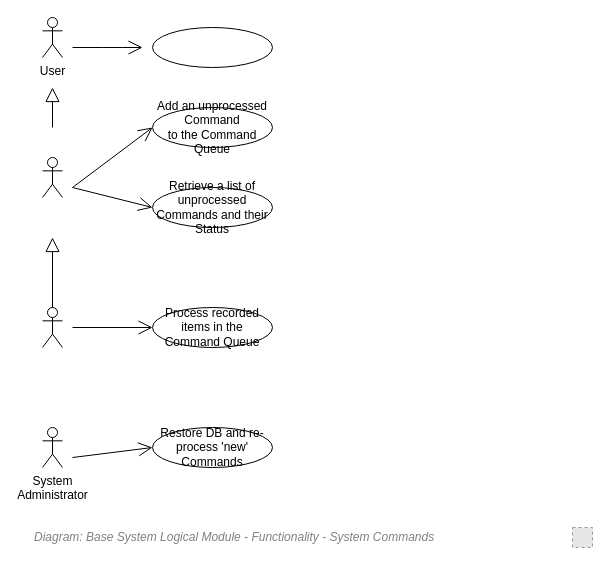
Image size: 610x565. Some labels were removed from this diagram. Grey dashed boxes stand in for pictures. Here are the shapes that lost their labels. From the top down, the centre of each, then its label:
At (212,47): "Add a processed Serialized Command to the Command Log".
At (52,177): "Authorised User".
At (52,327): "Daemon".
